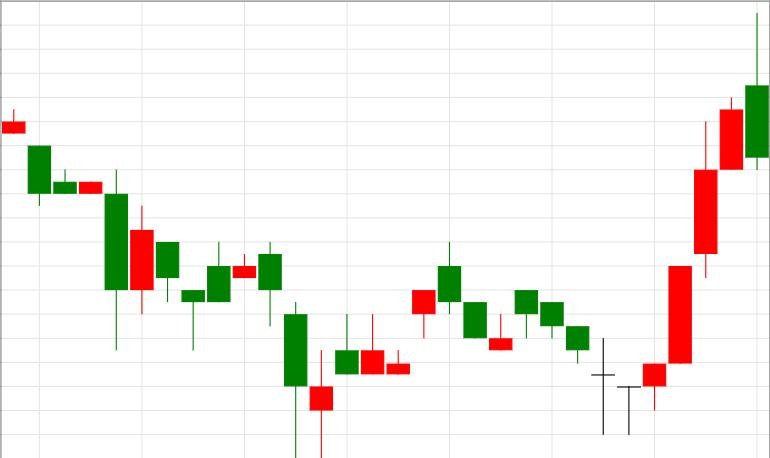three_white_soldiers_rise: (514, 97, 743, 436)
